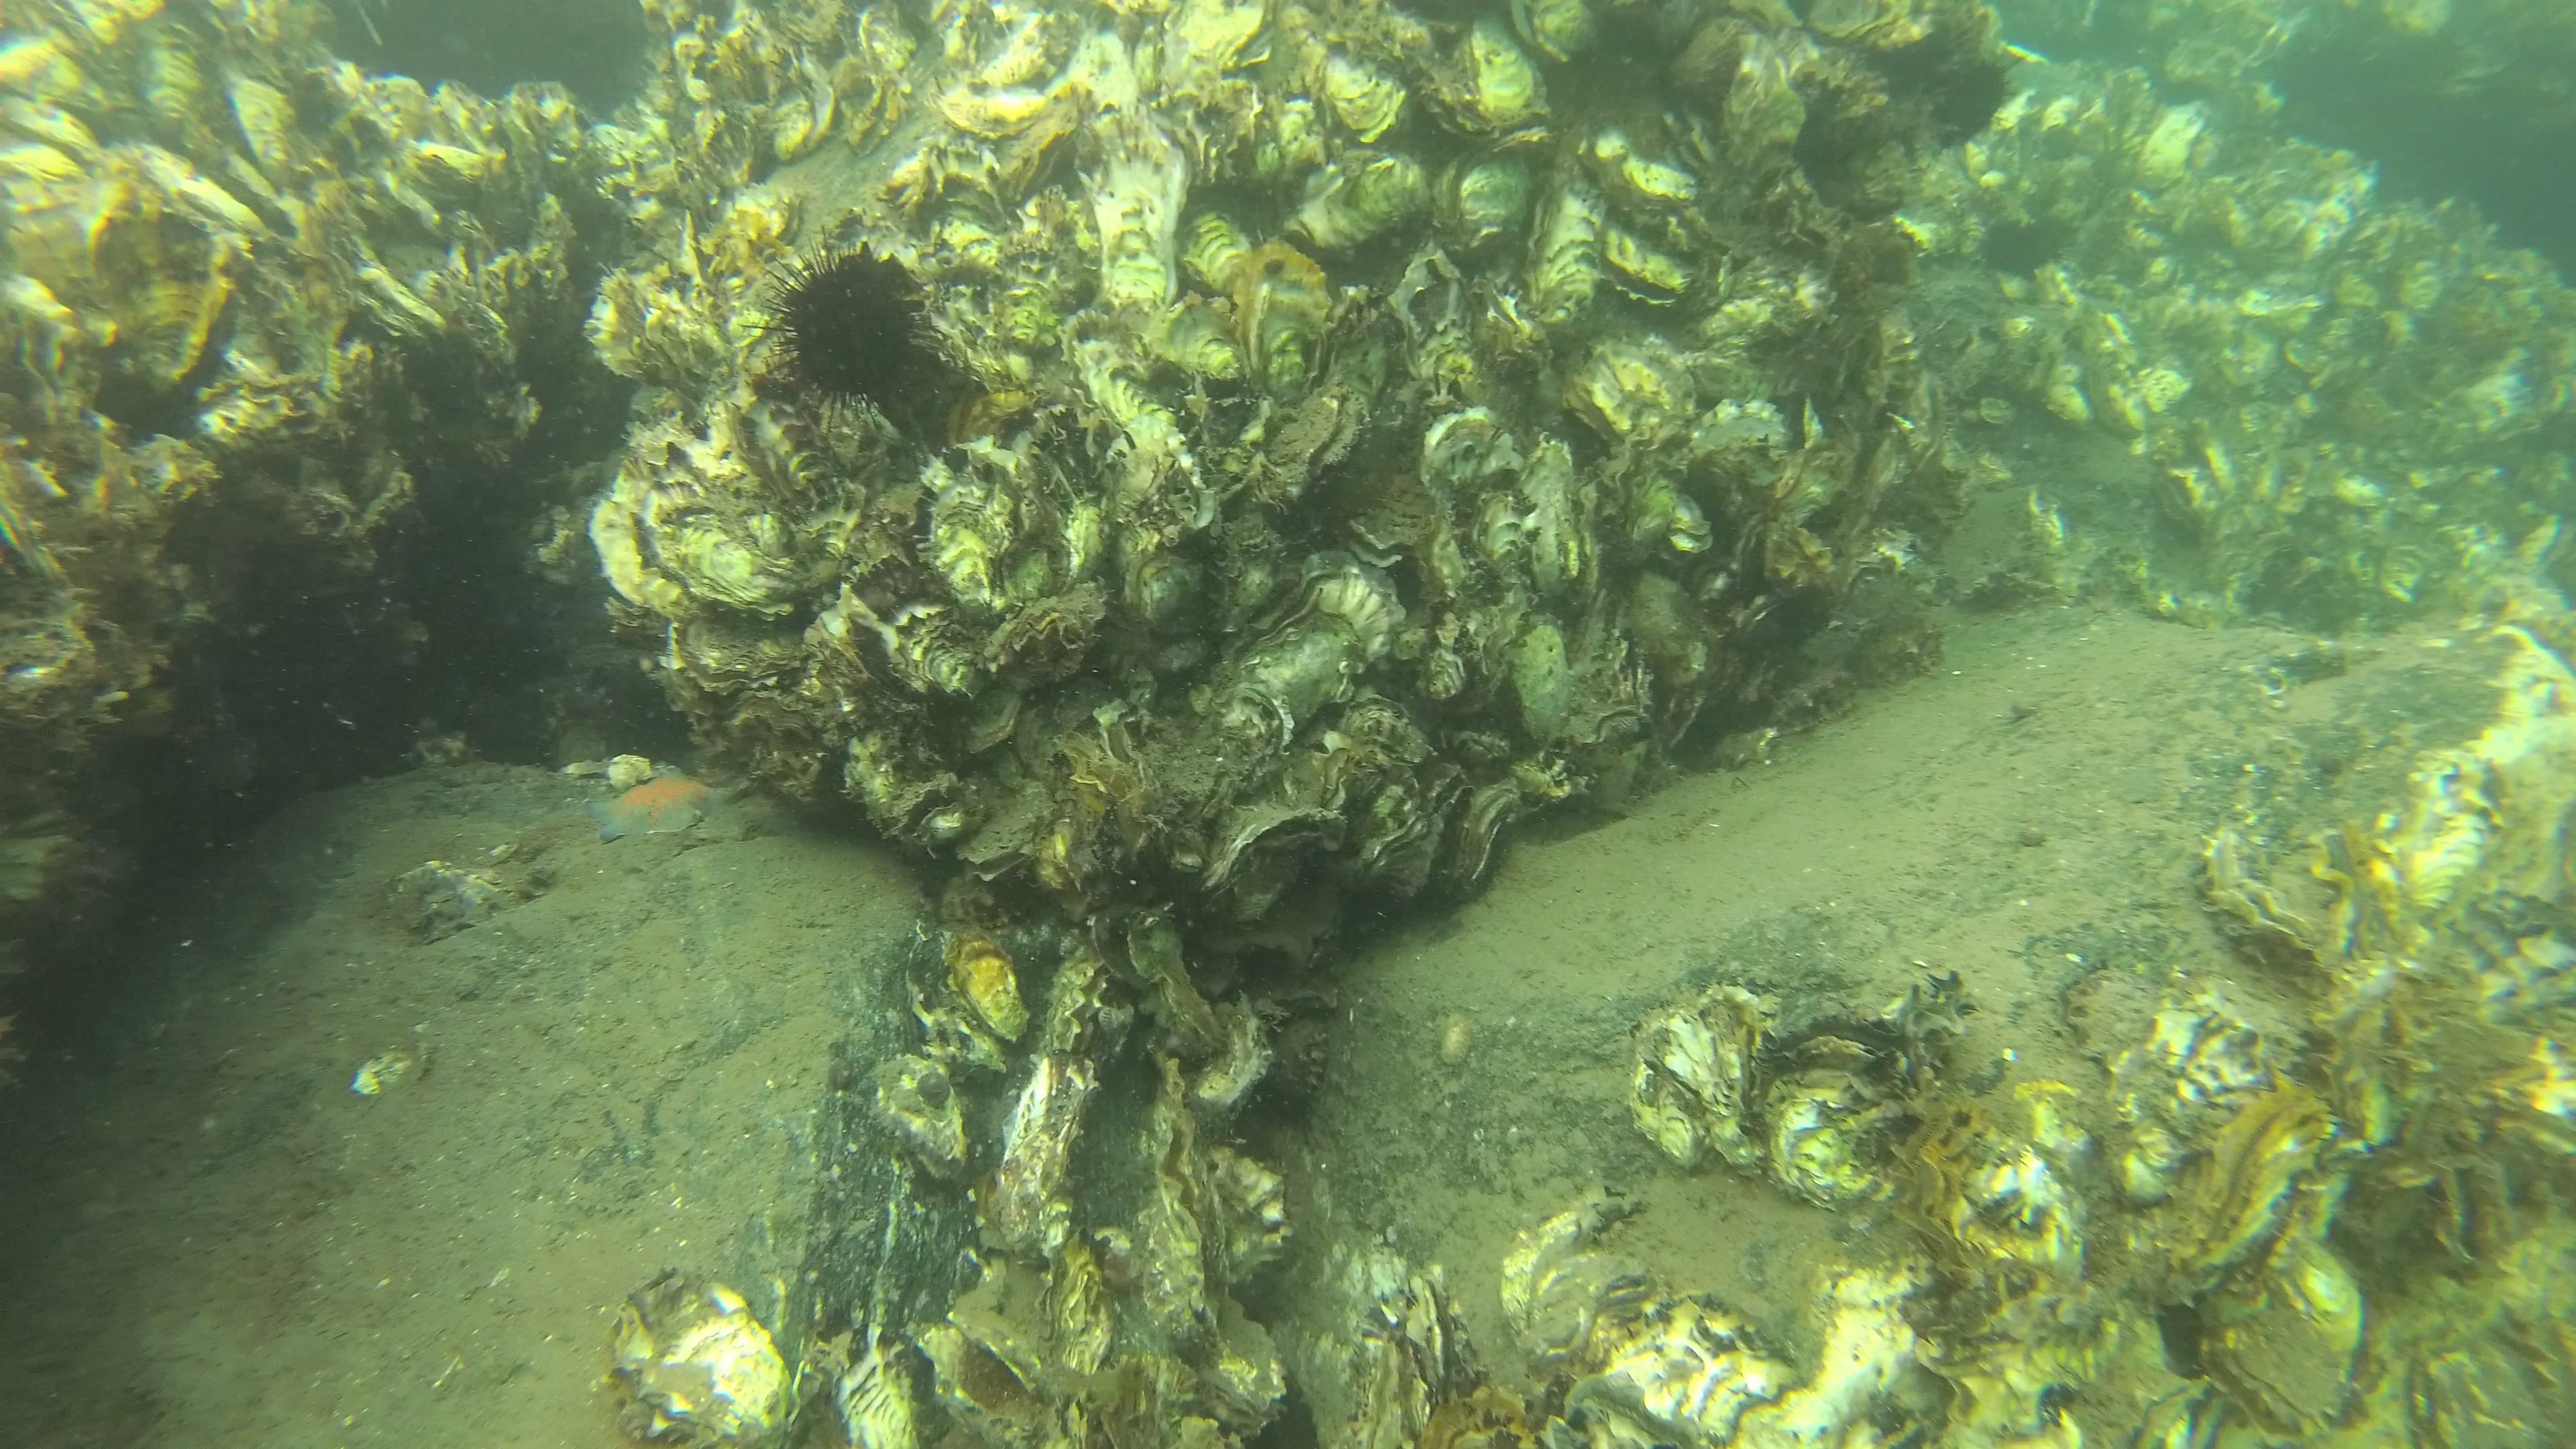echinus: (757, 223, 947, 428), (1941, 57, 2033, 147), (1971, 205, 2070, 285)
starfish: (587, 757, 759, 847)
